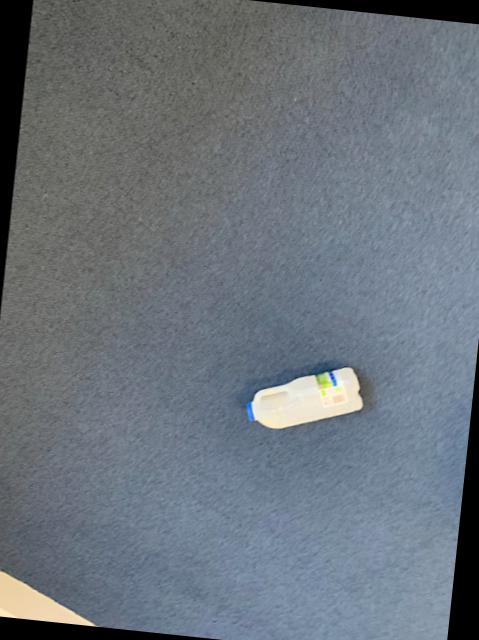plastic: (245, 368, 360, 429)
